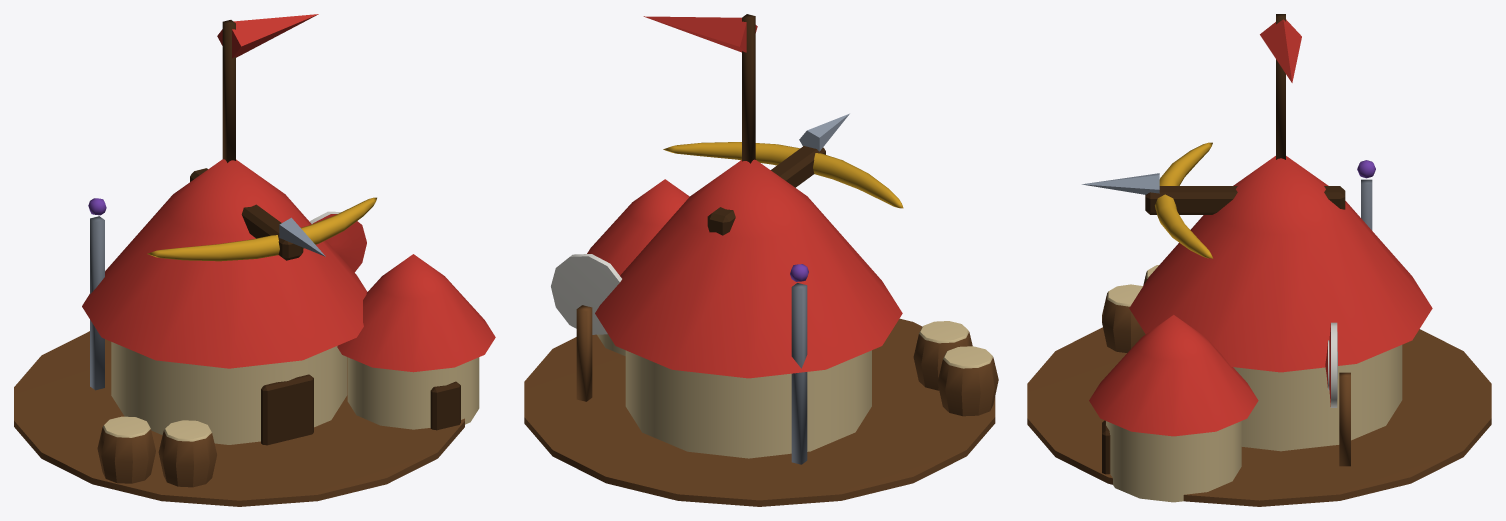
3 views of the same model, side by side, from view 1: azimuth 30°, elevation 25°; view 2: azimuth 150°, elevation 25°; view 3: azimuth 270°, elevation 25° (orthographic). The views are drawn at different scales.
Visible parts, largest first — view 1: vila_0_base, vila_1_torreta; view 2: vila_0_base, vila_1_torreta; view 3: vila_0_base, vila_1_torreta.
Part boxes in pixels (x1=…): vila_0_base: x1=14, y1=159, x2=495, y2=506; vila_1_torreta: x1=217, y1=14, x2=318, y2=162; vila_0_base: x1=524, y1=113, x2=998, y2=506; vila_1_torreta: x1=643, y1=14, x2=757, y2=163; vila_0_base: x1=1027, y1=142, x2=1491, y2=506; vila_1_torreta: x1=1260, y1=14, x2=1301, y2=159.
Bounding box in the file's own units: 1.34 × 1.21 × 1.3.
